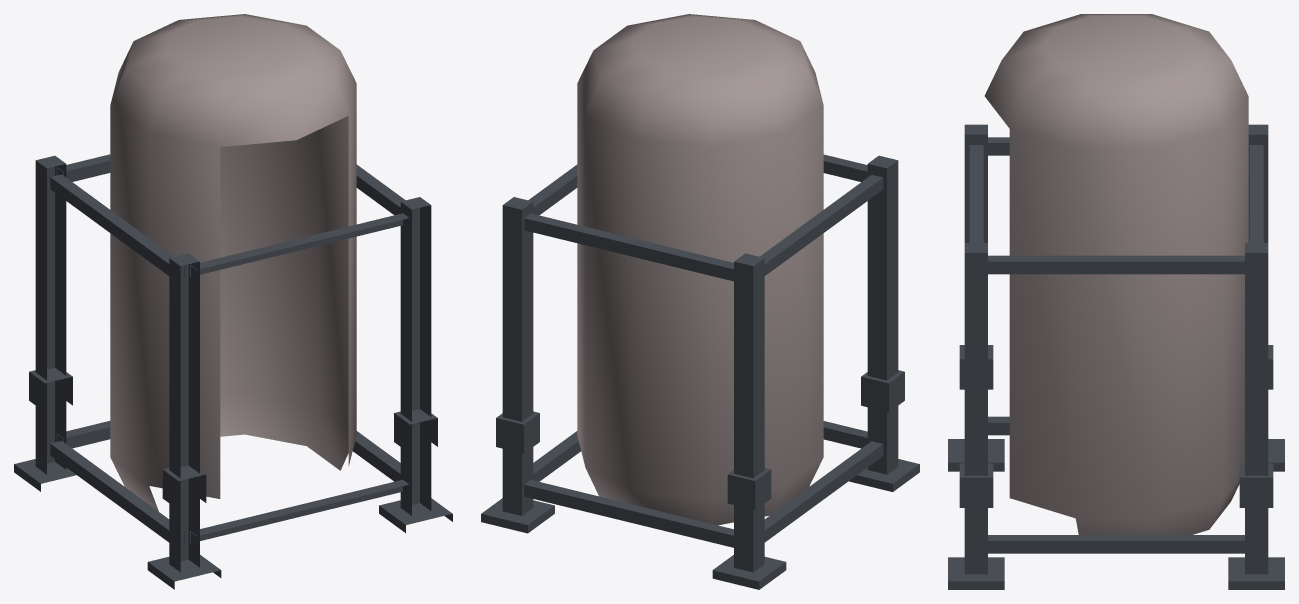
Rendered from water_tank_01.fbx.
3 views of the same model, side by side, from view 1: azimuth 30°, elevation 25°; view 2: azimuth 150°, elevation 25°; view 3: azimuth 270°, elevation 25° (orthographic). The views are drawn at different scales.
Parts seen in each view (by area): view 1: water_tank_01; view 2: water_tank_01; view 3: water_tank_01.
Part boxes in pixels (<box>): water_tank_01: <box>14,14,452,589</box>; water_tank_01: <box>481,14,919,589</box>; water_tank_01: <box>948,14,1284,589</box>.
Bounding box in the file's own units: 5.89 × 9.14 × 5.89.
